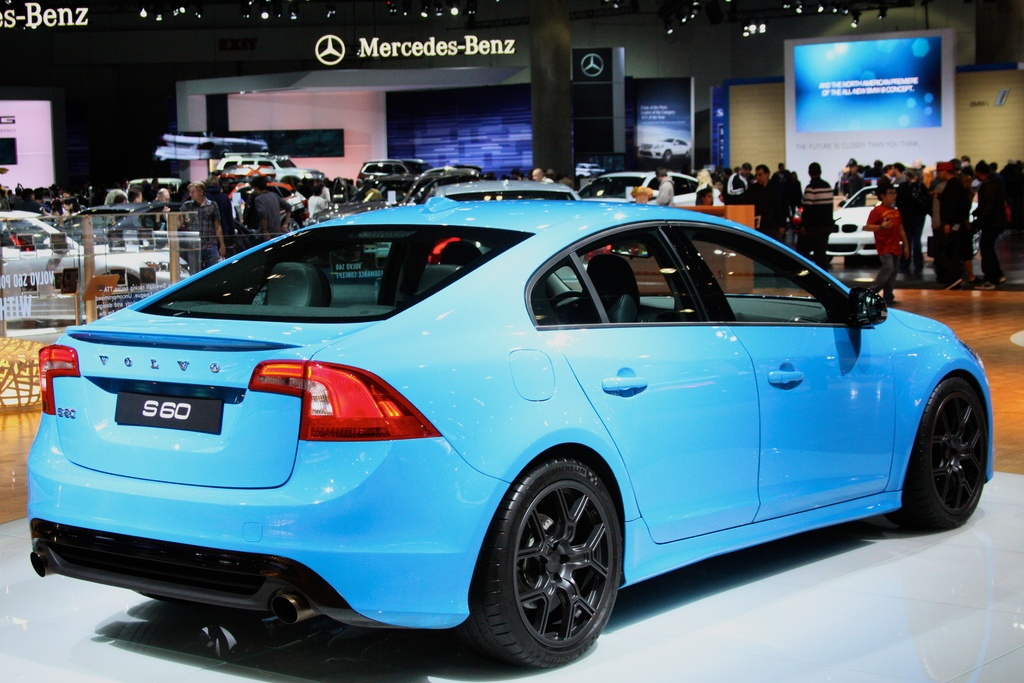Car: (25, 197, 992, 669), (2, 208, 195, 294), (828, 182, 979, 254), (576, 171, 723, 205), (216, 148, 325, 192), (437, 176, 581, 199), (357, 159, 445, 188), (640, 135, 691, 160)
